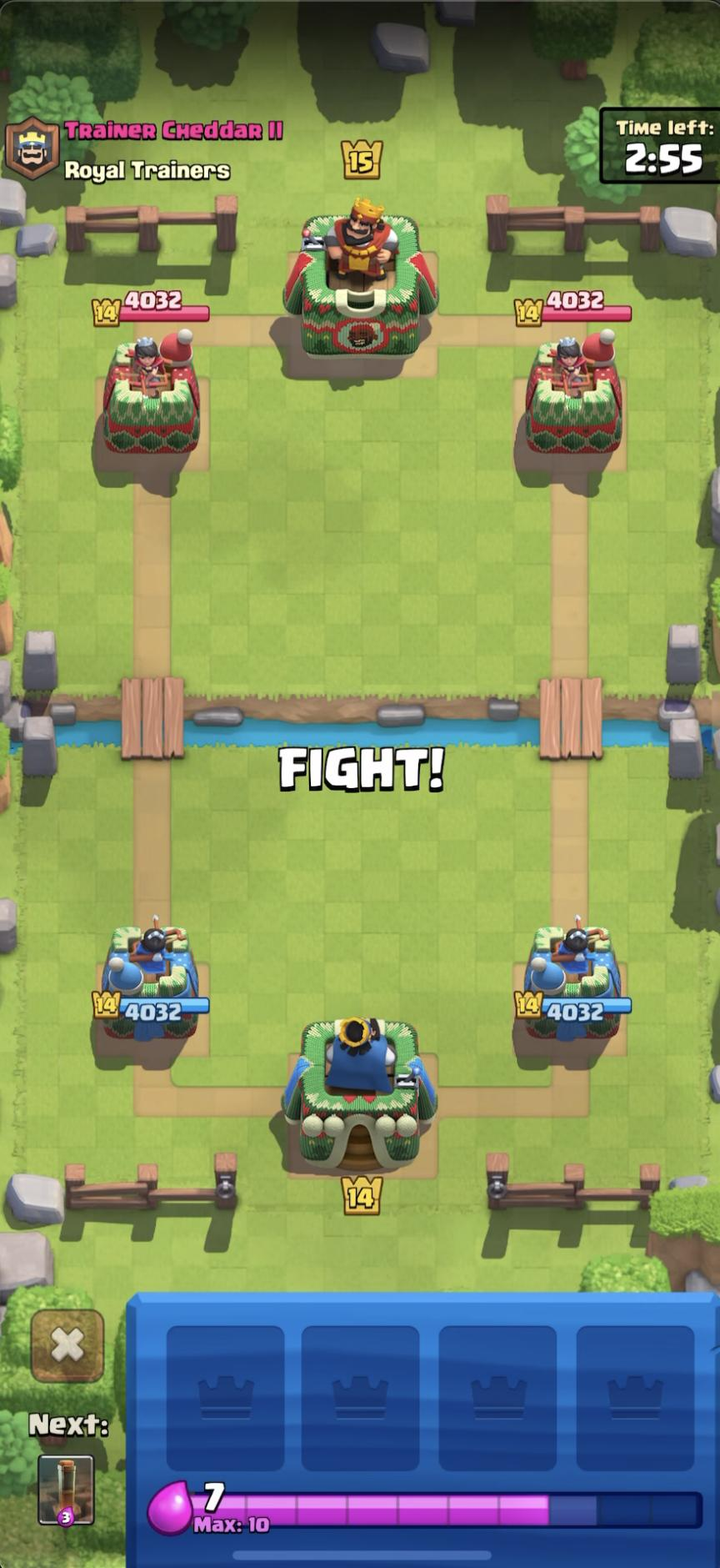card_earthquake: (31, 1451, 100, 1537)
elixir_bar_7: (149, 1475, 709, 1547)
